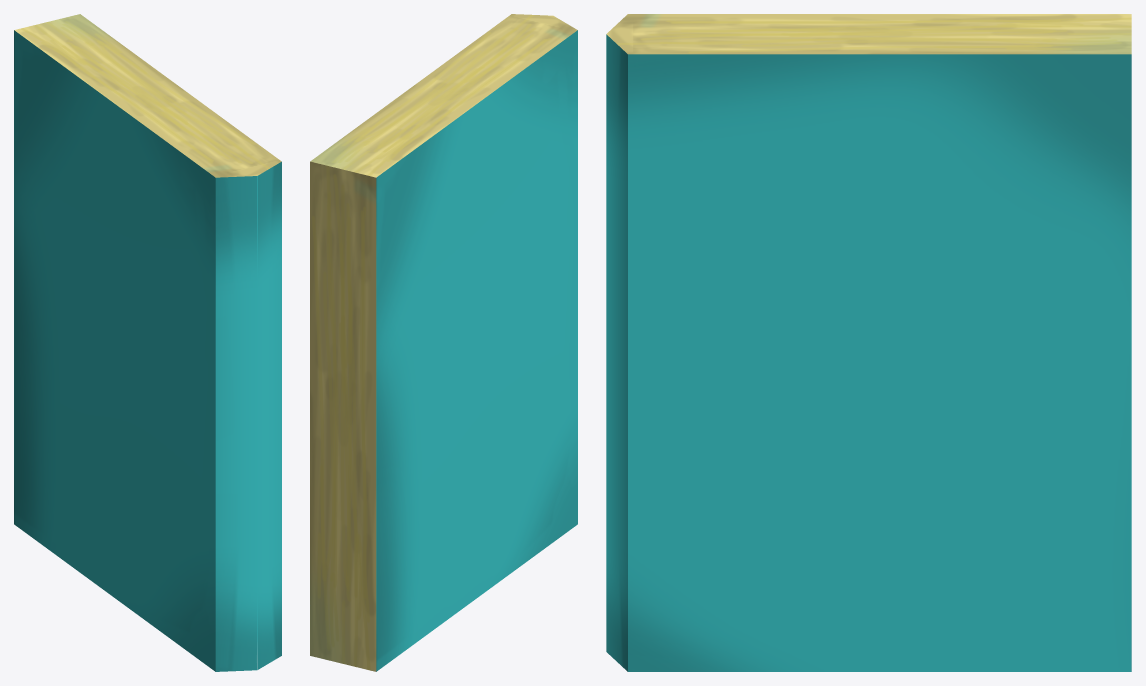
File: Libro1.fbx
The picture shows the model from 3 angles, left to right: view 1: azimuth 30°, elevation 25°; view 2: azimuth 150°, elevation 25°; view 3: azimuth 270°, elevation 25°; orthographic projection. The views are drawn at different scales.
Visible parts, largest first — view 1: Libro3; view 2: Libro3; view 3: Libro3.
Boxes of the visible parts, box(x1,y1,x2,y2) form: Libro3: box(14, 14, 281, 671); Libro3: box(310, 14, 577, 671); Libro3: box(606, 14, 1131, 671).
Size of the model in its own units: 2.94 by 21.03 by 16.21.
